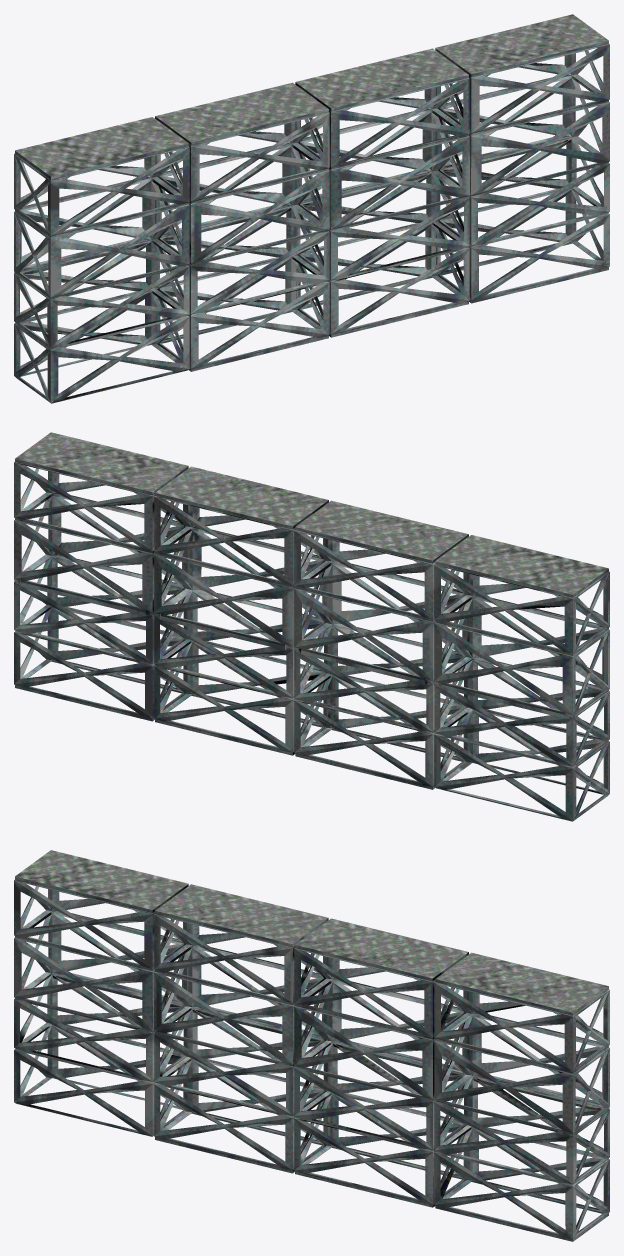
The model's file is scaffolding.glb.
3 renders of one model, top to bottom at view 1: azimuth 30°, elevation 25°; view 2: azimuth 150°, elevation 25°; view 3: azimuth 330°, elevation 25°, orthographic.
Visible parts, largest first — view 1: s2; view 2: s2; view 3: s2.
Part boxes in pixels (x1=…): s2: x1=14, y1=14, x2=609, y2=403; s2: x1=14, y1=432, x2=609, y2=821; s2: x1=14, y1=850, x2=609, y2=1241.
Size of what is drawn, in the model's own units: 63.91 by 24.97 by 7.86.
Materials: 1 (1 with a texture image).
